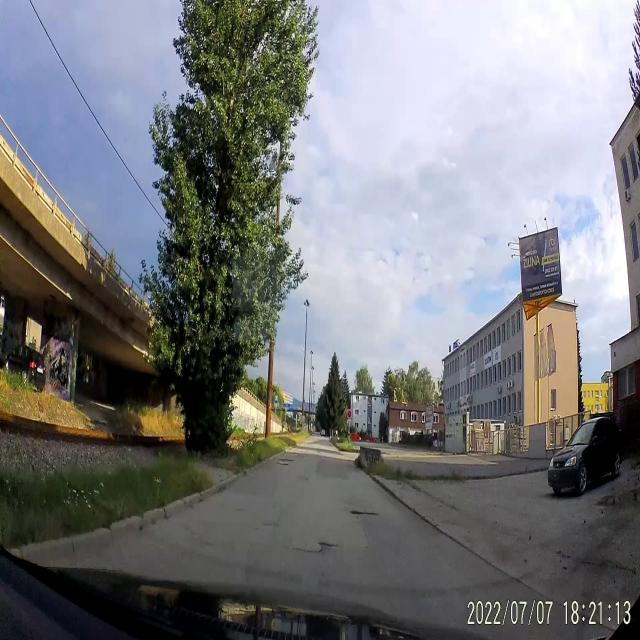Pothole: (298, 537, 340, 558), (348, 504, 381, 522), (276, 456, 294, 469)
